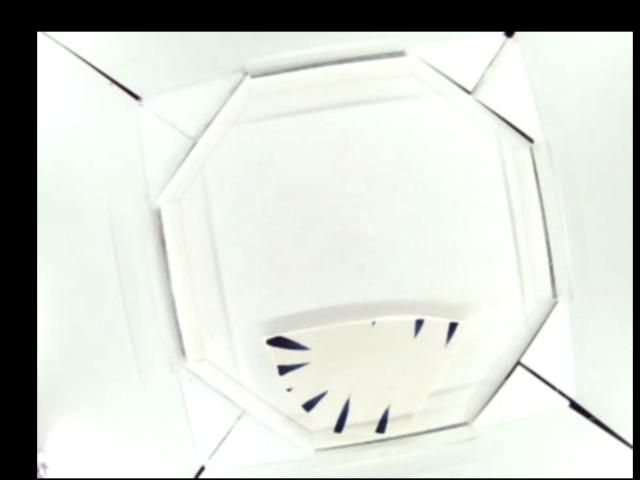China: (267, 314, 470, 436)
